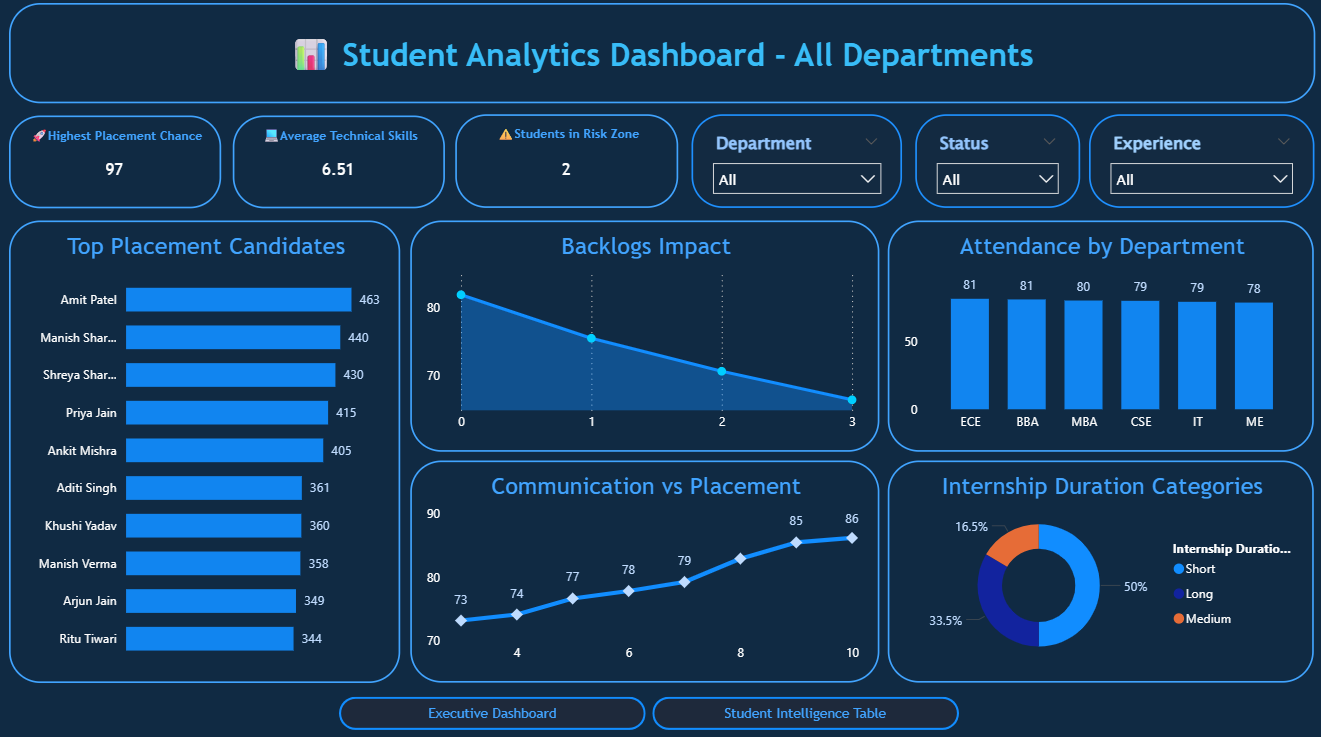

The page's visual inventory and layout, read from the dashboard file:
{"tool":"powerbi","page":{"name":"Placement Intelligence","canvas":[1280,720],"ordinal":1},"visuals":[{"type":"cardVisual","fields":{"Data":["student_data.Dynamic Analytics Title"]},"box":[9.7,9.7,1260.7,96.5],"z":0},{"type":"cardVisual","title":"🚀Highest Placement Chance","fields":{"Data":["student_data.Highest Placement Chance"]},"box":[9.1,117.9,204.7,89.4],"z":1000},{"type":"cardVisual","title":"💻Average Technical Skills","fields":{"Data":["student_data.Avg Technical Skills"]},"box":[225.4,117.9,204.7,89.4],"z":2000},{"type":"cardVisual","title":"⚠️Students in Risk Zone","fields":{"Data":["student_data.Risk Students"]},"box":[440.5,116.6,215.1,90.7],"z":3000},{"type":"slicer","fields":{"Values":["student_data.Department"]},"box":[668.5,116.6,203.4,90.7],"z":4000},{"type":"slicer","fields":{"Values":["student_data.Placement Status"]},"box":[883.7,116.6,159.4,90.7],"z":5000},{"type":"slicer","fields":{"Values":["student_data.Internship Experience"]},"box":[1052.2,116.6,217.7,90.7],"z":6000},{"type":"barChart","title":"Top Placement Candidates","fields":{"Category":["student_data.Student Name"],"Y":["Sum(student_data.Placement Chance Percentage)"]},"box":[9.7,219.6,377.6,446.4],"z":7000},{"type":"areaChart","title":"Backlogs Impact","fields":{"Category":["student_data.Backlogs"],"Y":["student_data.Avg Placement Chance"]},"box":[396.9,219.6,452.4,223.2],"z":8000},{"type":"lineChart","title":"Communication vs Placement","fields":{"Category":["student_data.Communication Skills"],"Y":["student_data.Avg Placement Chance"]},"box":[396.9,451.2,452.4,214.7],"z":9000},{"type":"columnChart","title":"Attendance by Department","fields":{"Category":["student_data.Department"],"Y":["student_data.Avg Placement Chance"]},"box":[857.8,219.6,411.4,223.2],"z":10000},{"type":"donutChart","title":"Internship Duration Categories","fields":{"Category":["student_data.Internship Duration Category"],"Y":["CountNonNull(student_data.Student ID)"]},"box":[857.8,451.2,411.4,214.7],"z":11000},{"type":"pageNavigator","box":[327.8,678.9,599.8,32.4],"z":12000}]}

Visuals, with their boxes in screenshot pixels (x1, y1, x2, y2), scaled from the page's 1280x720 canvas onto the 1321x737 screenshot:
cardVisual - student_data.Dynamic Analytics Title: locate(10, 10, 1311, 109)
"🚀Highest Placement Chance" cardVisual: locate(9, 121, 221, 212)
"💻Average Technical Skills" cardVisual: locate(233, 121, 444, 212)
"⚠️Students in Risk Zone" cardVisual: locate(455, 119, 677, 212)
slicer - student_data.Department: locate(690, 119, 900, 212)
slicer - student_data.Placement Status: locate(912, 119, 1077, 212)
slicer - student_data.Internship Experience: locate(1086, 119, 1311, 212)
"Top Placement Candidates" barChart: locate(10, 225, 400, 682)
"Backlogs Impact" areaChart: locate(410, 225, 877, 453)
"Communication vs Placement" lineChart: locate(410, 462, 877, 682)
"Attendance by Department" columnChart: locate(885, 225, 1310, 453)
"Internship Duration Categories" donutChart: locate(885, 462, 1310, 682)
pageNavigator: locate(338, 695, 957, 728)
